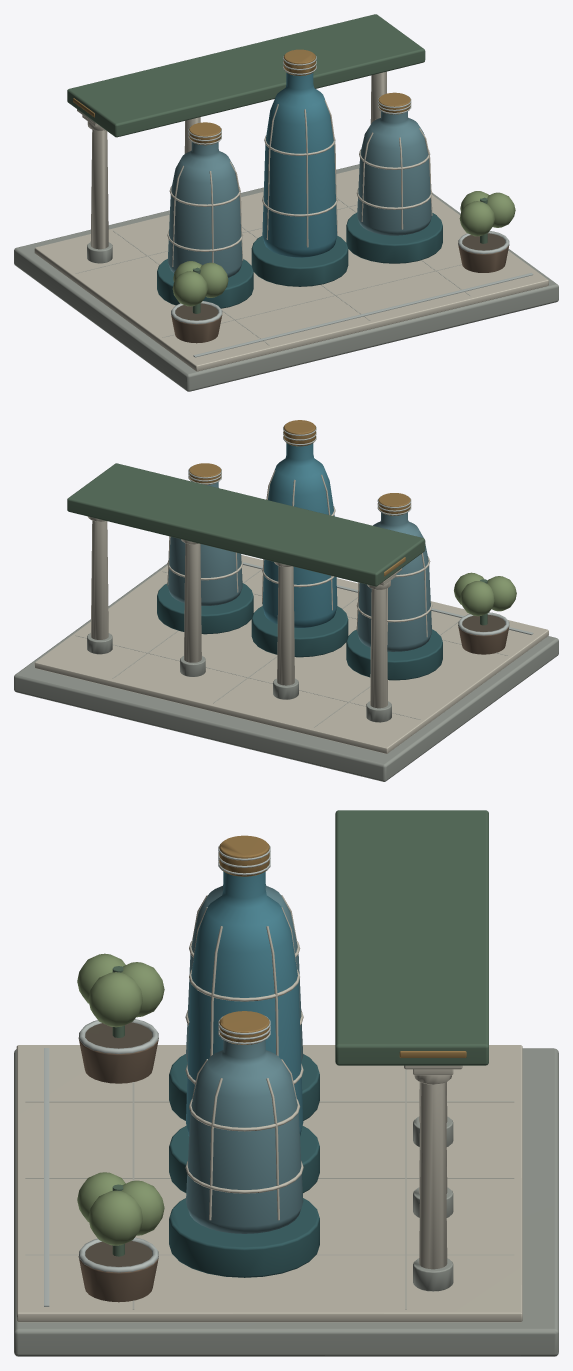
Rendered from idea-80c75a2c.glb.
The picture shows the model from 3 angles, top to bottom: view 1: azimuth 30°, elevation 25°; view 2: azimuth 150°, elevation 25°; view 3: azimuth 270°, elevation 25°; orthographic projection. The views are drawn at different scales.
Parts seen in each view (by area): view 1: Edible / Biodegradable Bottle; view 2: Edible / Biodegradable Bottle; view 3: Edible / Biodegradable Bottle.
Boxes of the visible parts, box(x1,y1,x2,y2) form: Edible / Biodegradable Bottle: box(14, 14, 558, 391); Edible / Biodegradable Bottle: box(14, 420, 558, 781); Edible / Biodegradable Bottle: box(14, 810, 558, 1356).
Bounding box in the file's own units: 4.8 × 2.93 × 3.9.
